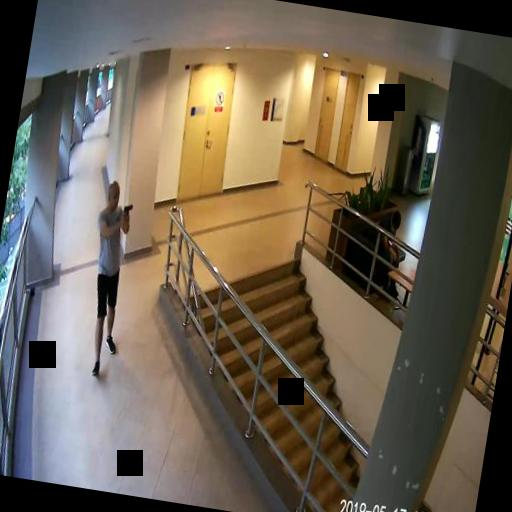Handgun: (120, 200, 131, 222)
